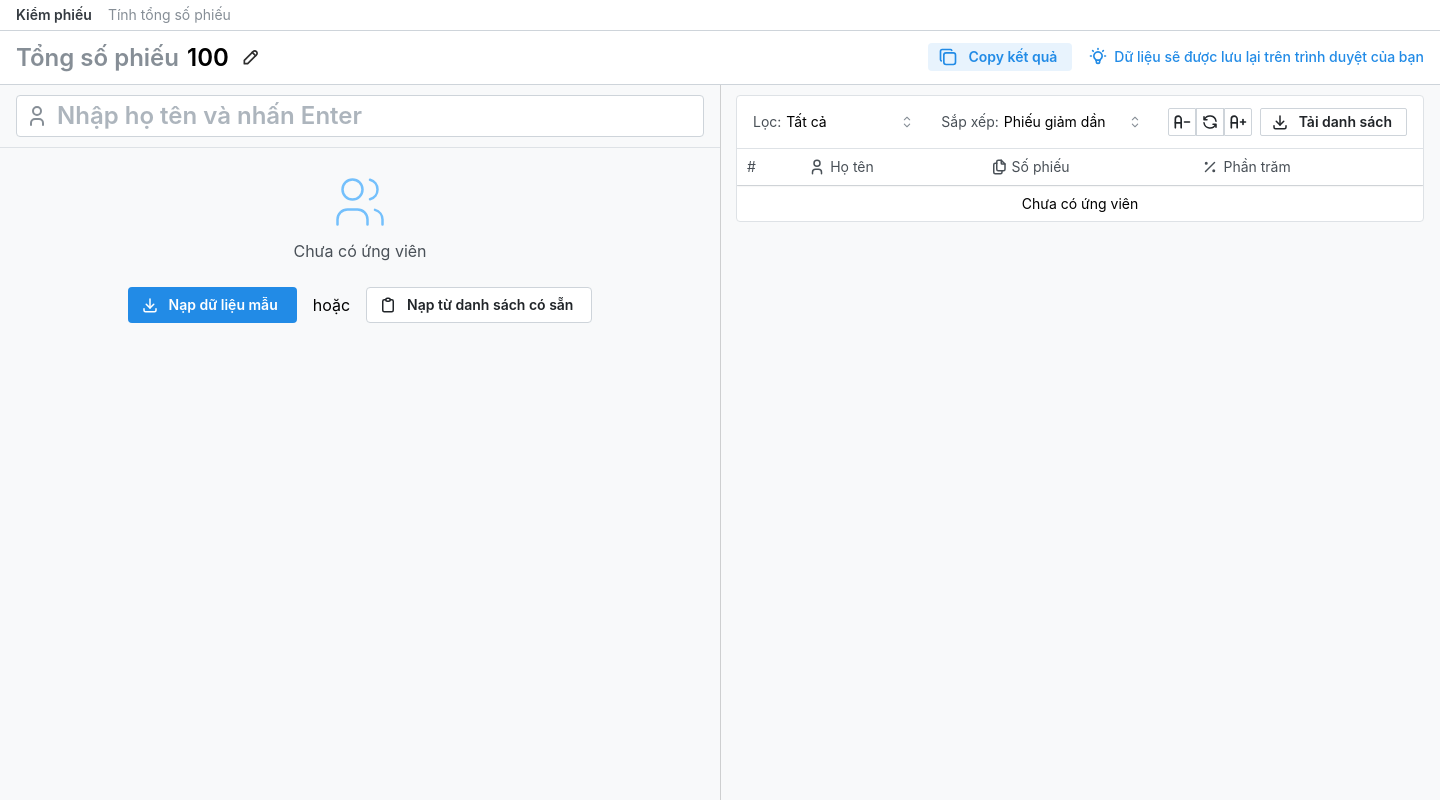
Scenario: testing vote › can delete all candidates
Step 1. Click the button "Nạp dữ liệu mẫu" → (213, 306), box [128,288,297,324]
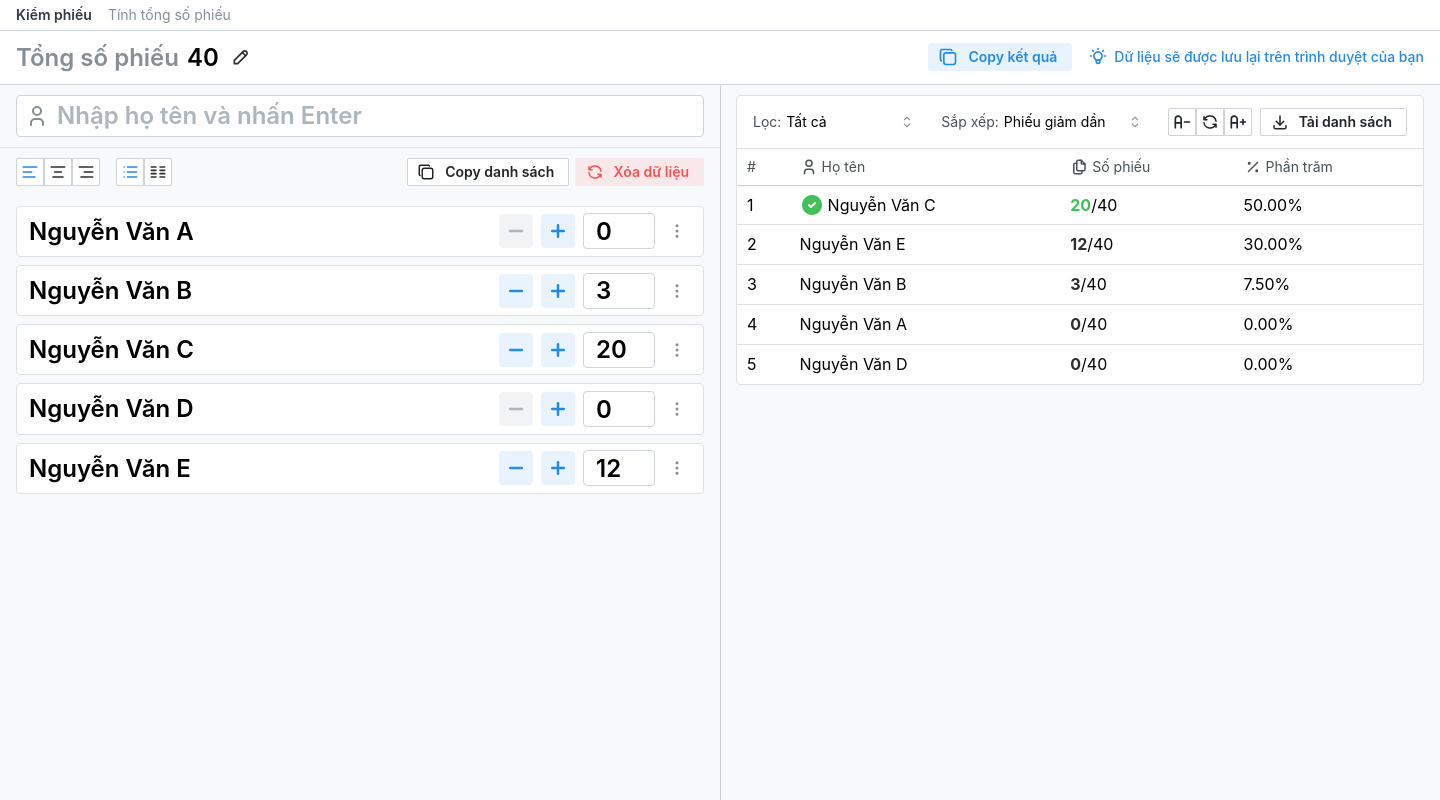
Step 2. Click the button "Xóa dữ liệu" → (640, 172), box [575,158,704,186]
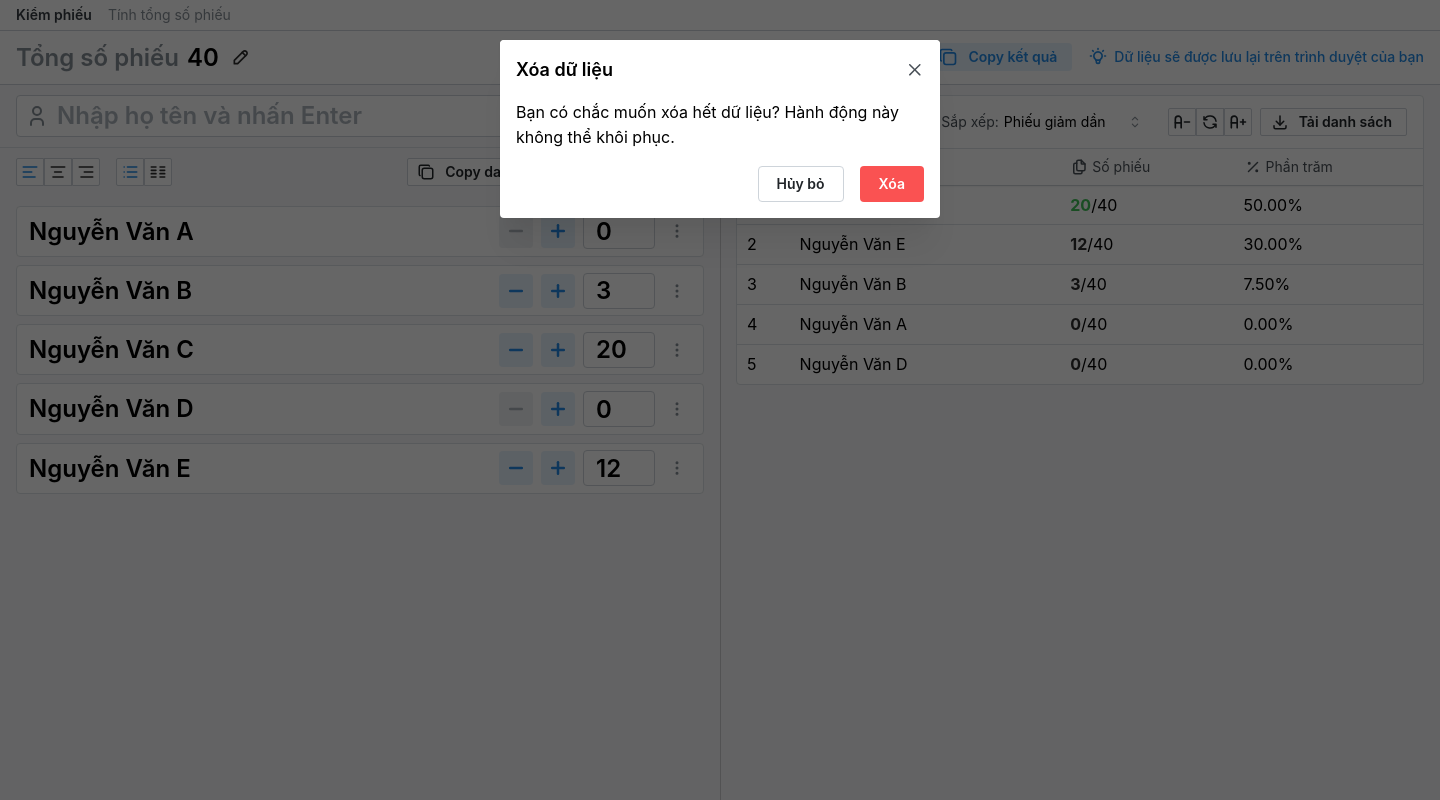
Result: the text "Bạn có chắc muốn xóa hết dữ liệu? Hành động này không thể khôi phục." is shown at [516,100,924,150]
Step 3. Click the button "Xóa" → (892, 184), box [860,166,924,202]
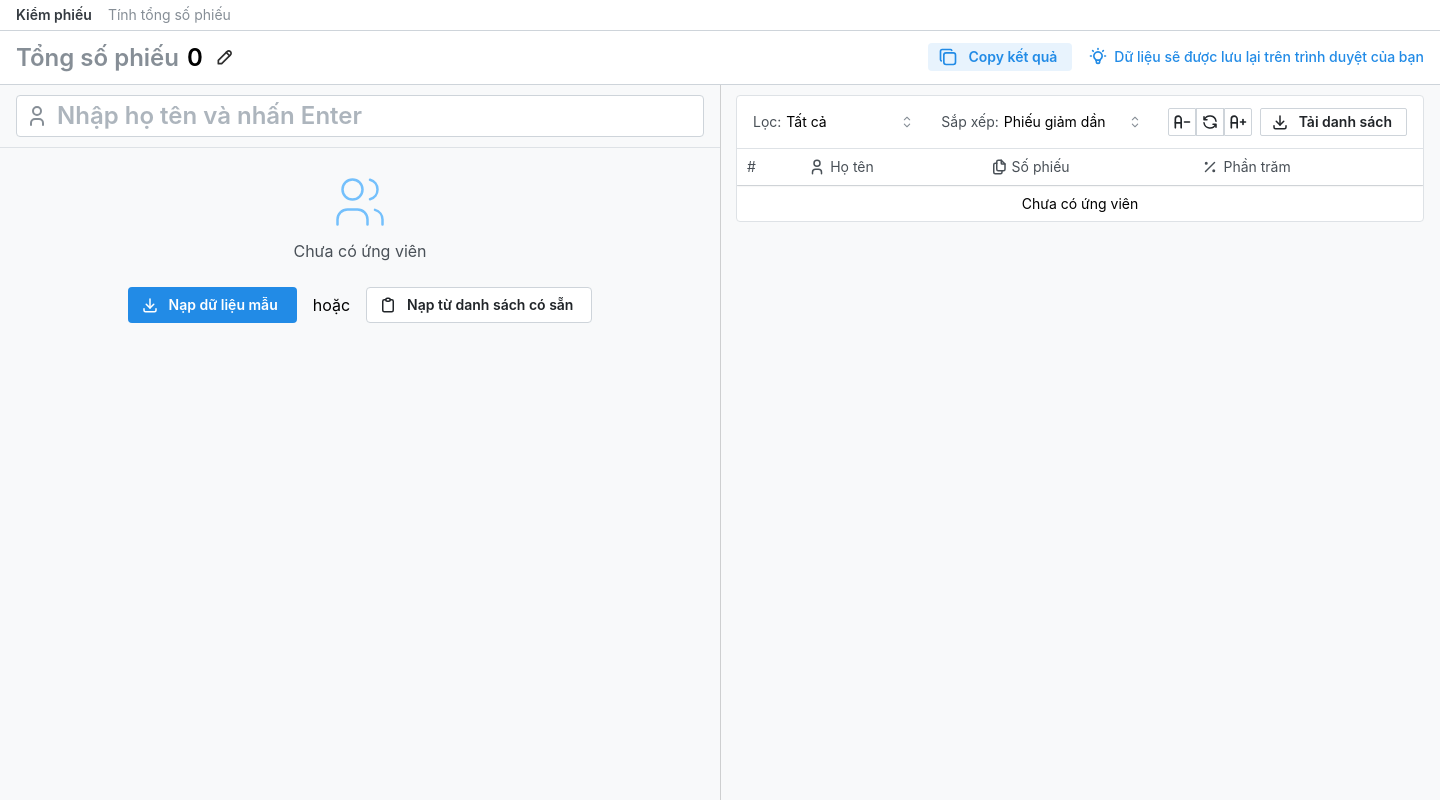
Result: no elements with test id "candidate-item" are shown
